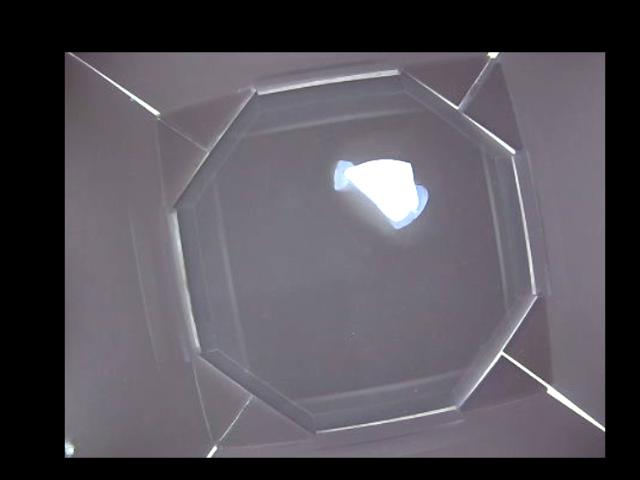China: (335, 151, 431, 228)
